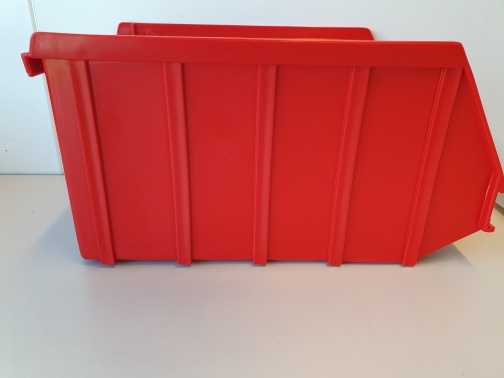tray_left: (20, 32, 504, 269)
